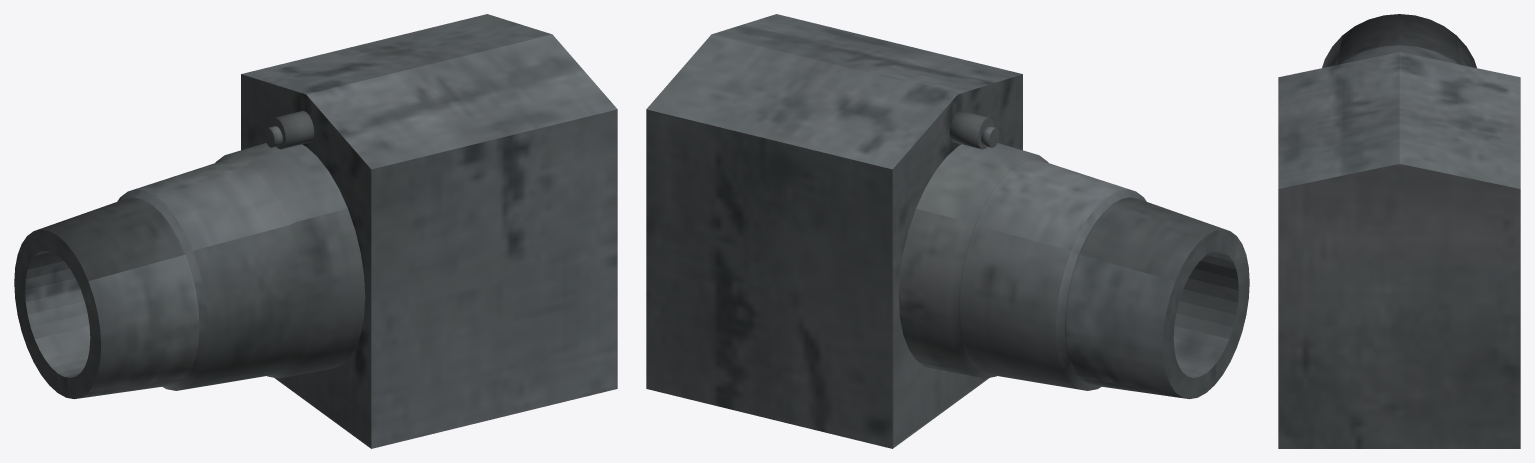
File: 600mmL8.obj
3 views of the same model, side by side, from view 1: azimuth 30°, elevation 25°; view 2: azimuth 150°, elevation 25°; view 3: azimuth 270°, elevation 25° (orthographic). The views are drawn at different scales.
Parts seen in each view (by area): view 1: 600mmL8_円柱.001; view 2: 600mmL8_円柱.001; view 3: 600mmL8_円柱.001.
Part boxes in pixels (box(x1,y1,x2,y2)): 600mmL8_円柱.001: box(14, 14, 617, 448); 600mmL8_円柱.001: box(646, 14, 1249, 448); 600mmL8_円柱.001: box(1278, 14, 1520, 448).
Size of the model in its own units: 5.26 by 3.12 by 2.4.
